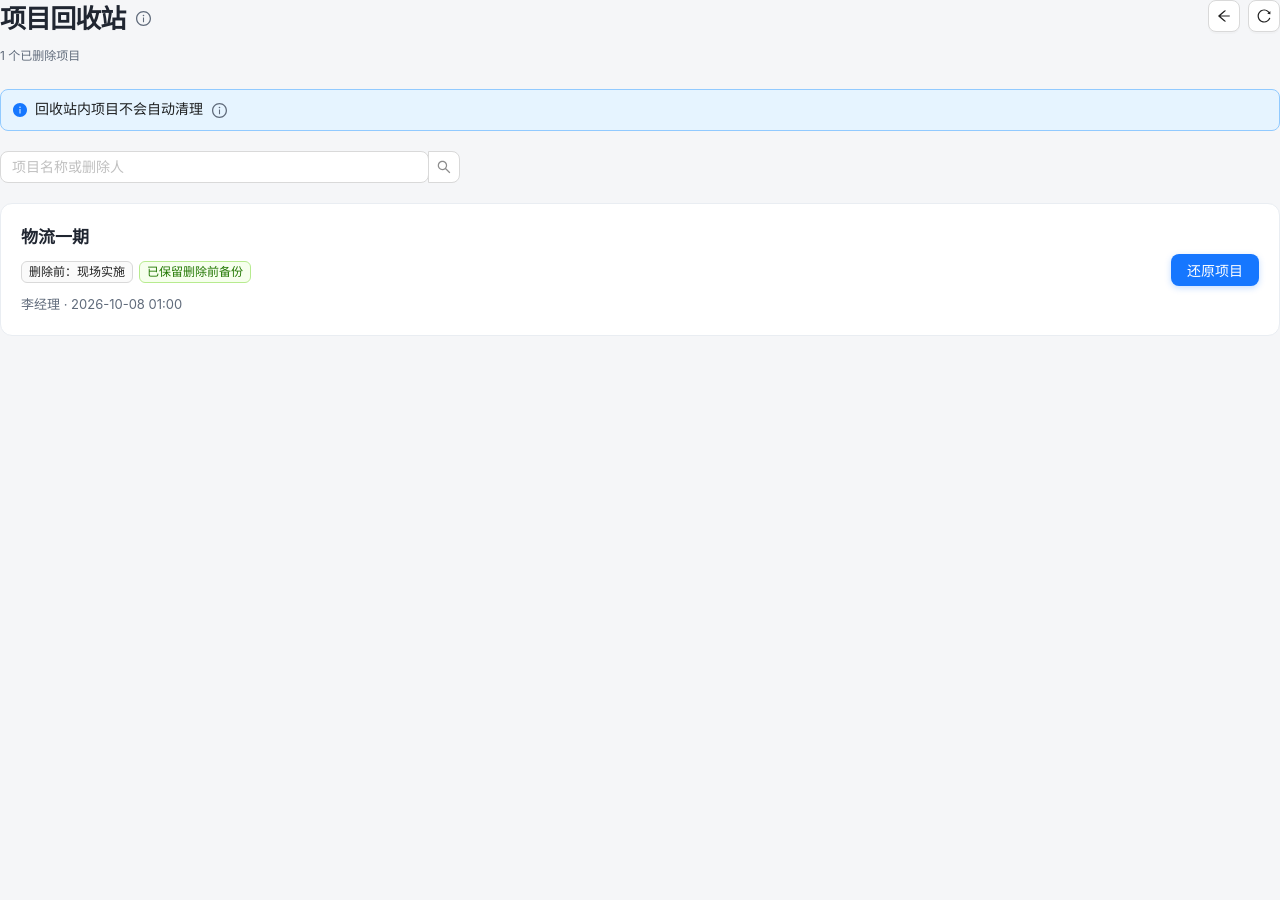
Test case: keeps authorized restoration while hiding backup download after explicit export denial, even with stale allowed metadata
The image size is (1280, 900).
Click the button with aria-label "还原项目：物流一期". click: (1215, 270)
box: [1171,254,1259,286]
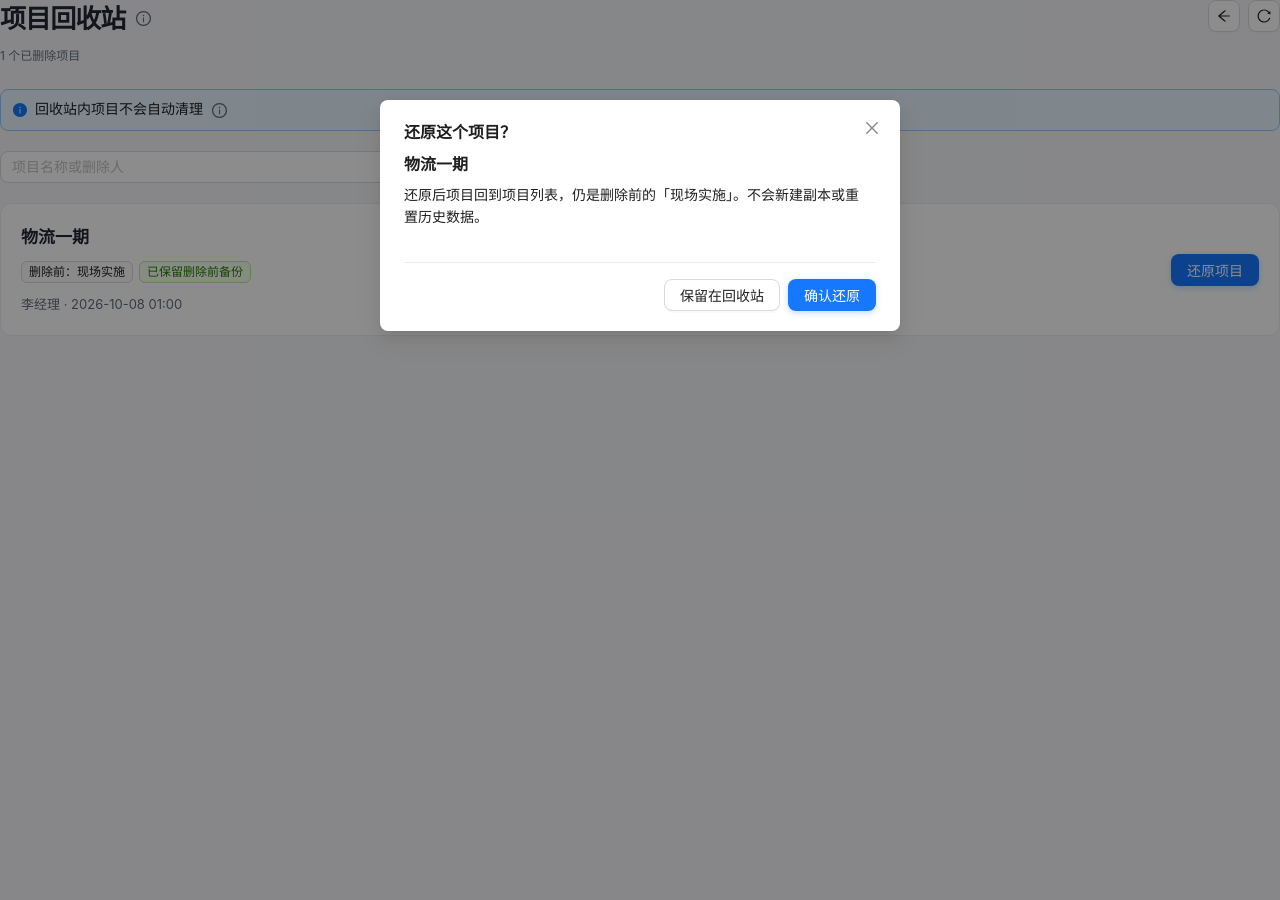
Click the button "确认还原". click: (832, 295)
box: [788,279,876,311]
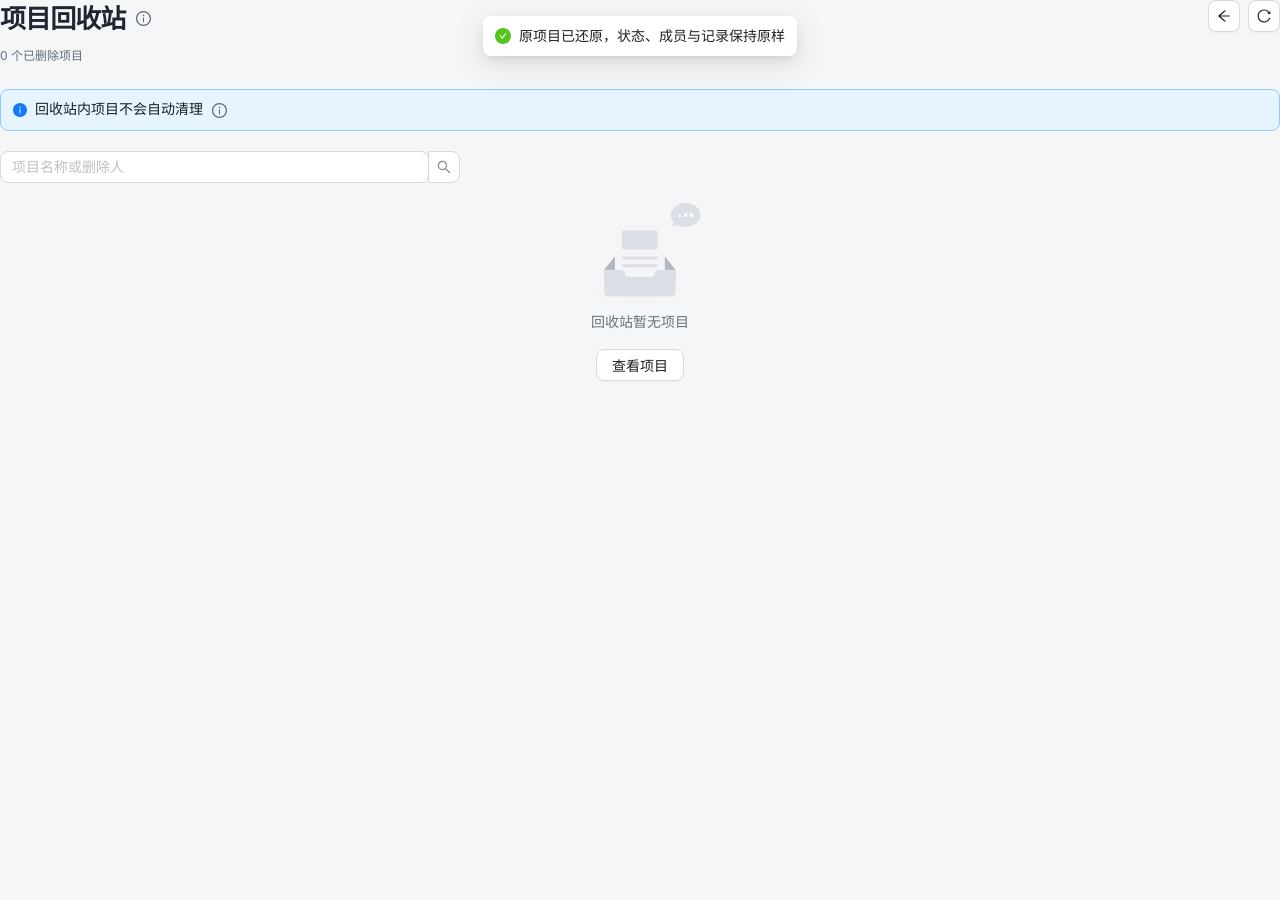
Result: the text "回收站暂无项目" is shown at [591,313,689,330]
